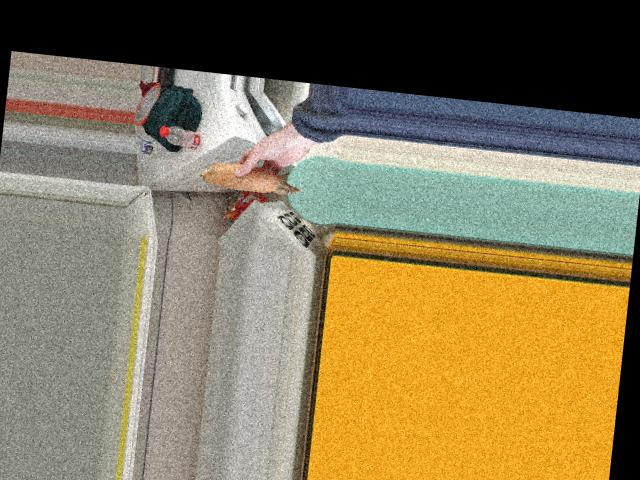sweet_potato: (206, 155, 304, 198)
